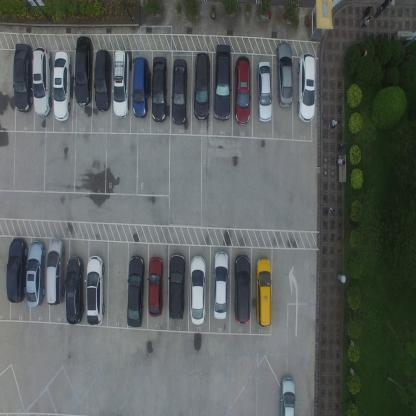car: (213, 42, 232, 123), (84, 254, 104, 328), (5, 237, 27, 304), (254, 256, 274, 328), (32, 46, 52, 118), (296, 51, 316, 122), (13, 42, 33, 113), (126, 252, 145, 326), (26, 239, 46, 309), (53, 50, 72, 122), (74, 34, 92, 108), (188, 253, 206, 325), (66, 254, 84, 326), (275, 41, 294, 109), (113, 49, 131, 120), (46, 238, 65, 305), (192, 52, 210, 121), (168, 249, 186, 318), (150, 55, 168, 123), (212, 250, 229, 320), (234, 253, 250, 325), (234, 54, 250, 126), (171, 58, 188, 125), (256, 60, 274, 123), (132, 56, 150, 118), (94, 49, 111, 112), (146, 254, 163, 316), (278, 373, 296, 415)
